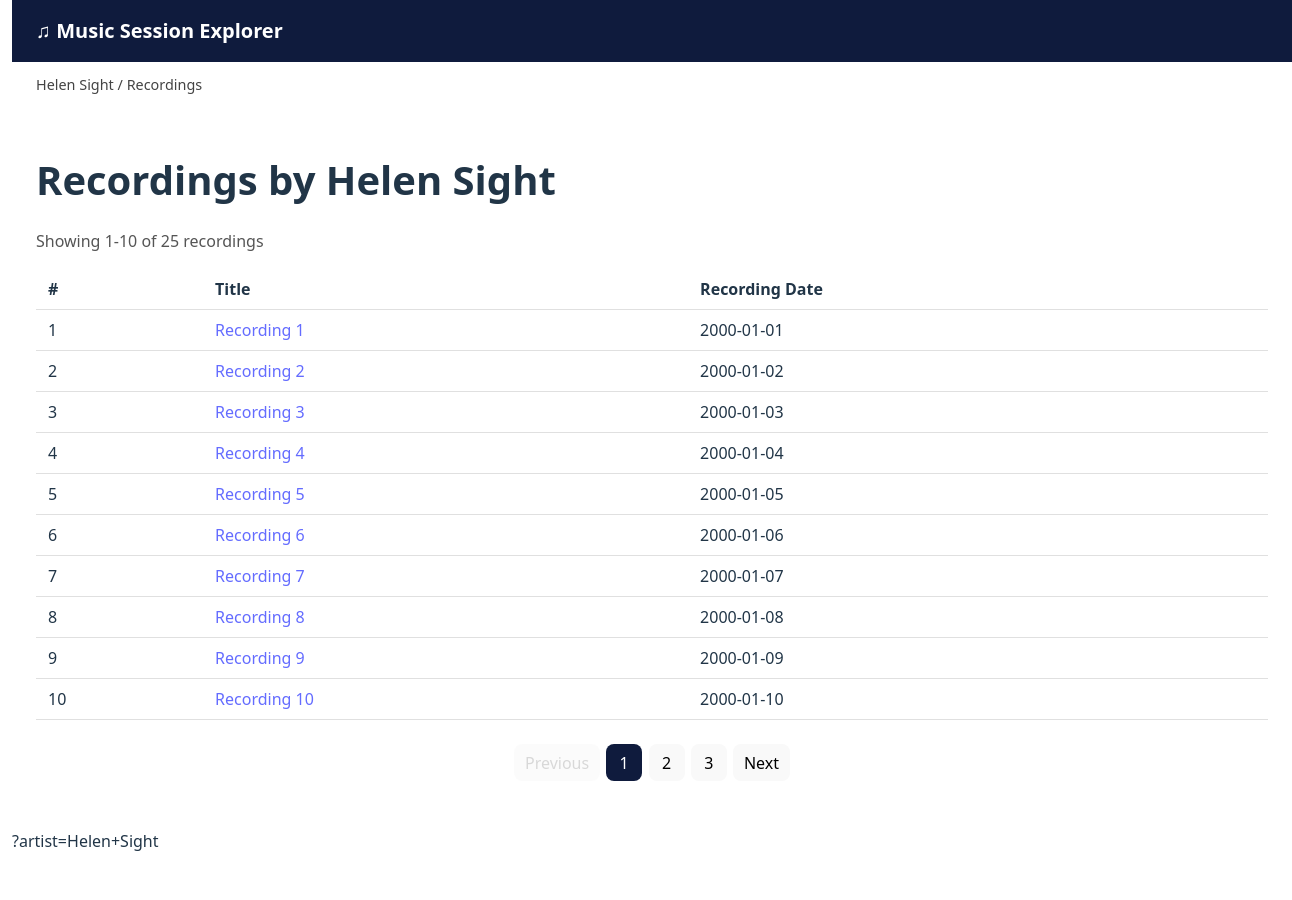
Test: RecordingListPage › advances to the next page of recordings and updates the page query param when Next is clicked
This screenshot has width=1292, height=900.
Expected: the link "Recording 1" is shown, [215,319,305,341]
What coordinates should you click on to do the following:
click the button "Next"
I would click on:
 (761, 763)
Its box is [733,744,790,781].
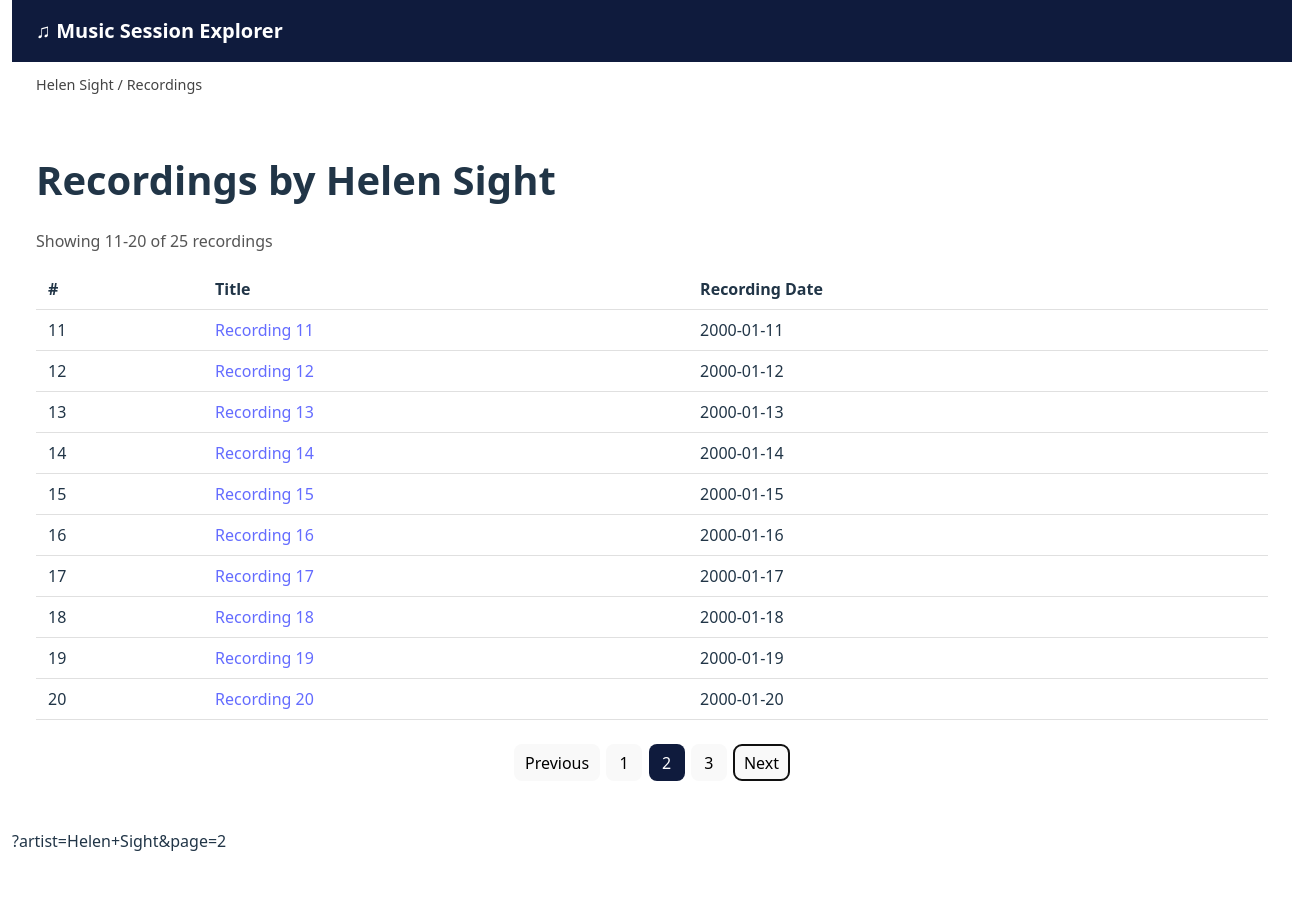
Expected: the link "Recording 11" is shown, [215,319,314,341]
Expected: the text with test id "location" shows "page=2", [12,830,226,852]
